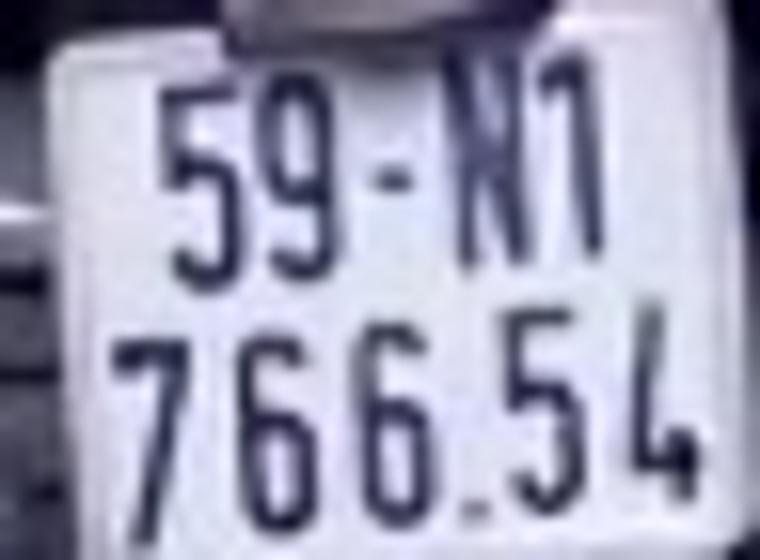-: (370, 166, 420, 192)
.: (459, 495, 494, 529)
1: (541, 40, 619, 255)
4: (627, 289, 707, 503)
5: (149, 72, 253, 296), (500, 300, 595, 512)
6: (230, 331, 324, 537), (352, 322, 439, 532)
7: (101, 336, 202, 550)
9: (254, 75, 347, 285)
N: (434, 52, 540, 273)
